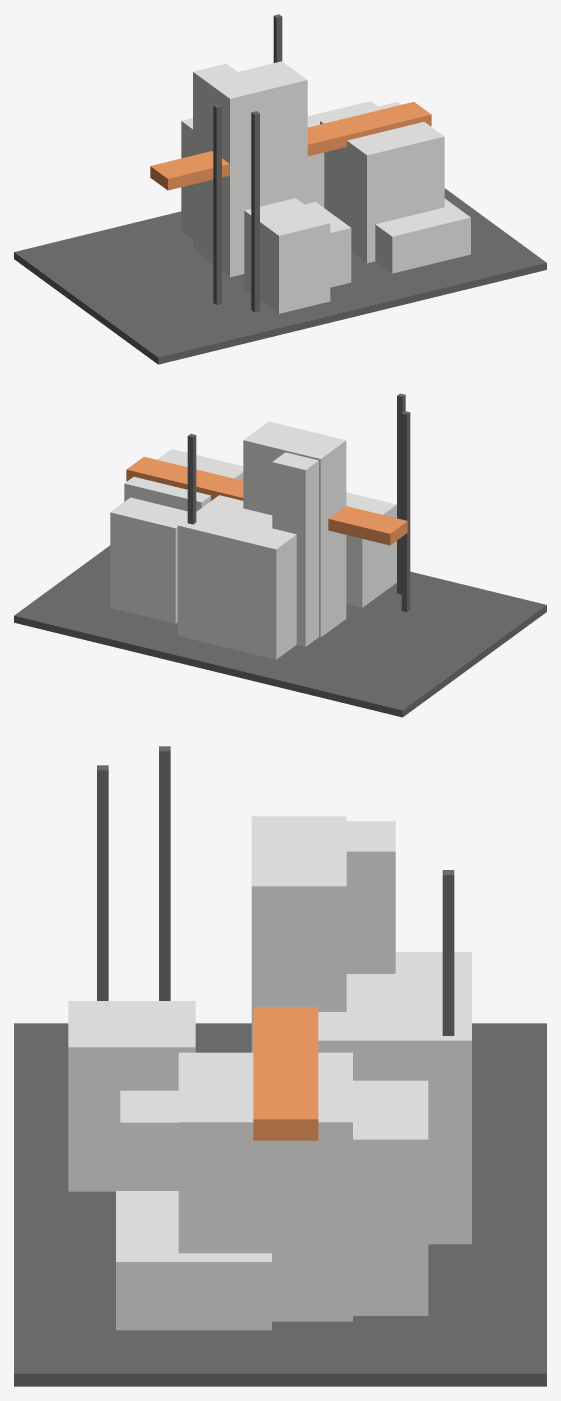
Rendered from model.CypBBVvJ.glb.
3 renders of one model, top to bottom at view 1: azimuth 30°, elevation 25°; view 2: azimuth 150°, elevation 25°; view 3: azimuth 270°, elevation 25°, orthographic. The views are drawn at different scales.
Visible parts, largest first — view 1: placeholder-massing; view 2: placeholder-massing; view 3: placeholder-massing.
Part boxes in pixels (x1,y1,x2,y2): placeholder-massing: (14,14,546,364); placeholder-massing: (14,393,546,717); placeholder-massing: (14,746,546,1386).
Size of the model in its own units: 14 by 7.04 by 9.
